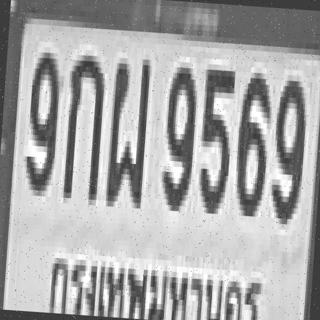A01: (61, 49, 104, 200)
A28: (104, 52, 149, 203)
N05: (194, 64, 233, 209)
N06: (232, 66, 270, 211)
N09: (268, 74, 307, 219), (23, 46, 60, 191), (160, 61, 197, 206)
P04: (42, 248, 267, 320)
